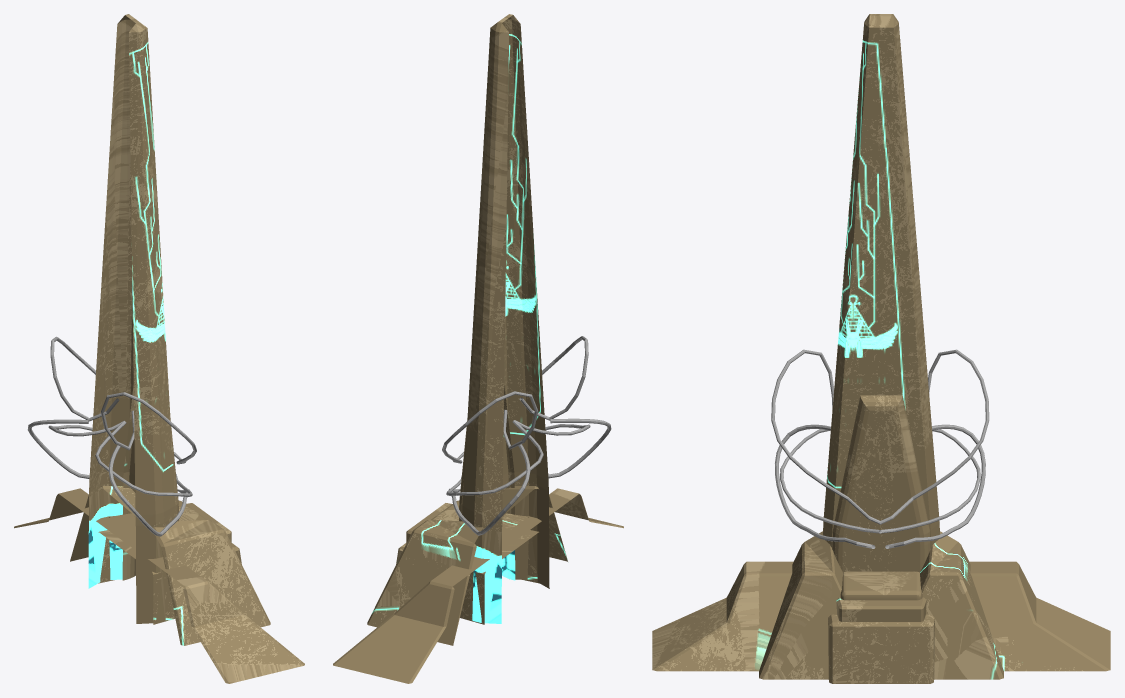
File: P_TronoSeth.fbx
3 views of the same model, side by side, from view 1: azimuth 30°, elevation 25°; view 2: azimuth 150°, elevation 25°; view 3: azimuth 270°, elevation 25° (orthographic). The views are drawn at different scales.
Parts seen in each view (by area): view 1: polySurface1, polySurface7, polySurface4, Cables, polySurface3, polySurface2, polySurface5; view 2: polySurface1, polySurface7, polySurface4, Cables, polySurface3, polySurface2, polySurface5; view 3: polySurface1, polySurface7, polySurface4, polySurface2, polySurface3, Cables, pCube1, polySurface5.
Part boxes in pixels (<box>): polySurface1: <box>88,14,175,623</box>; polySurface7: <box>14,488,304,683</box>; polySurface4: <box>70,486,270,645</box>; Cables: <box>27,336,196,536</box>; polySurface3: <box>98,530,241,624</box>; polySurface2: <box>122,385,178,580</box>; polySurface5: <box>108,503,231,543</box>; polySurface1: <box>462,14,549,623</box>; polySurface7: <box>333,488,623,683</box>; polySurface4: <box>367,486,568,645</box>; Cables: <box>442,336,611,535</box>; polySurface3: <box>396,530,539,624</box>; polySurface2: <box>459,385,515,580</box>; polySurface5: <box>406,503,529,543</box>; polySurface1: <box>823,14,939,547</box>; polySurface7: <box>652,561,1110,671</box>; polySurface4: <box>759,531,1003,679</box>; polySurface2: <box>831,395,931,572</box>; polySurface3: <box>828,614,934,683</box>; Cables: <box>771,349,989,548</box>; pCube1: <box>840,571,922,600</box>; polySurface5: <box>836,597,926,621</box>.
Bounding box in the file's own units: 172 × 628 × 420.
